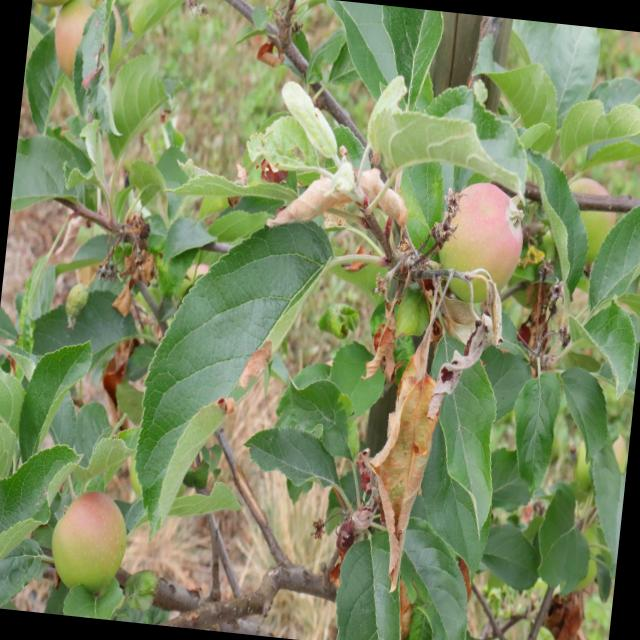-FireBlight-: (346, 260, 462, 591)
